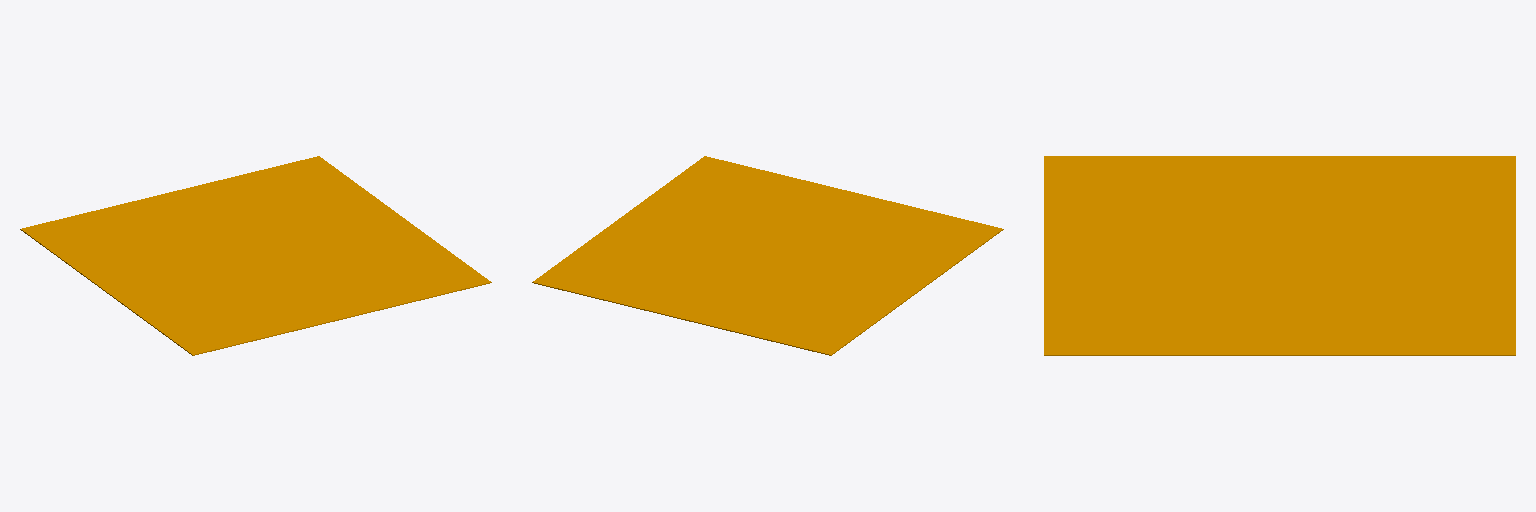
The robot description file, URDF, robot "ground":
<?xml version="1.0" encoding="utf-8"?>
<robot name="ground">
  <link name="base_link">
    <visual>
      <geometry><box size="6 6 0.02"/></geometry>
      <origin xyz="0 0 -0.01" rpy="0 0 0"/>
    </visual>
    <collision>
      <geometry><box size="6 6 0.02"/></geometry>
      <origin xyz="0 0 -0.011" rpy="0 0 0"/>
    </collision>
    <inertial>
      <mass value="1000.0"/>
      <inertia ixx="1.0" ixy="0" ixz="0" iyy="1.0" iyz="0" izz="1.0"/>
    </inertial>
  </link>
</robot>

--- What the picture shows (computed from the rendered views, not written in the file) ---
3 views of the same robot in one strip: view 1: azimuth 30°, elevation 25°; view 2: azimuth 150°, elevation 25°; view 3: azimuth 270°, elevation 25° (orthographic).
Robot: ground — 1 links, 0 joints (none); root link base_link; default pose: every joint at zero.
Links seen in each view (by area): view 1: base_link; view 2: base_link; view 3: base_link.
Boxes of the visible links, left/top/right/bottom form: base_link: left=20, top=156, right=491, bottom=355; base_link: left=532, top=156, right=1003, bottom=355; base_link: left=1044, top=156, right=1515, bottom=355.
Size in the robot's own frame: 6 by 6 by 0.02 metres.
Geometry: primitives only (box / cylinder / sphere), no mesh files.
